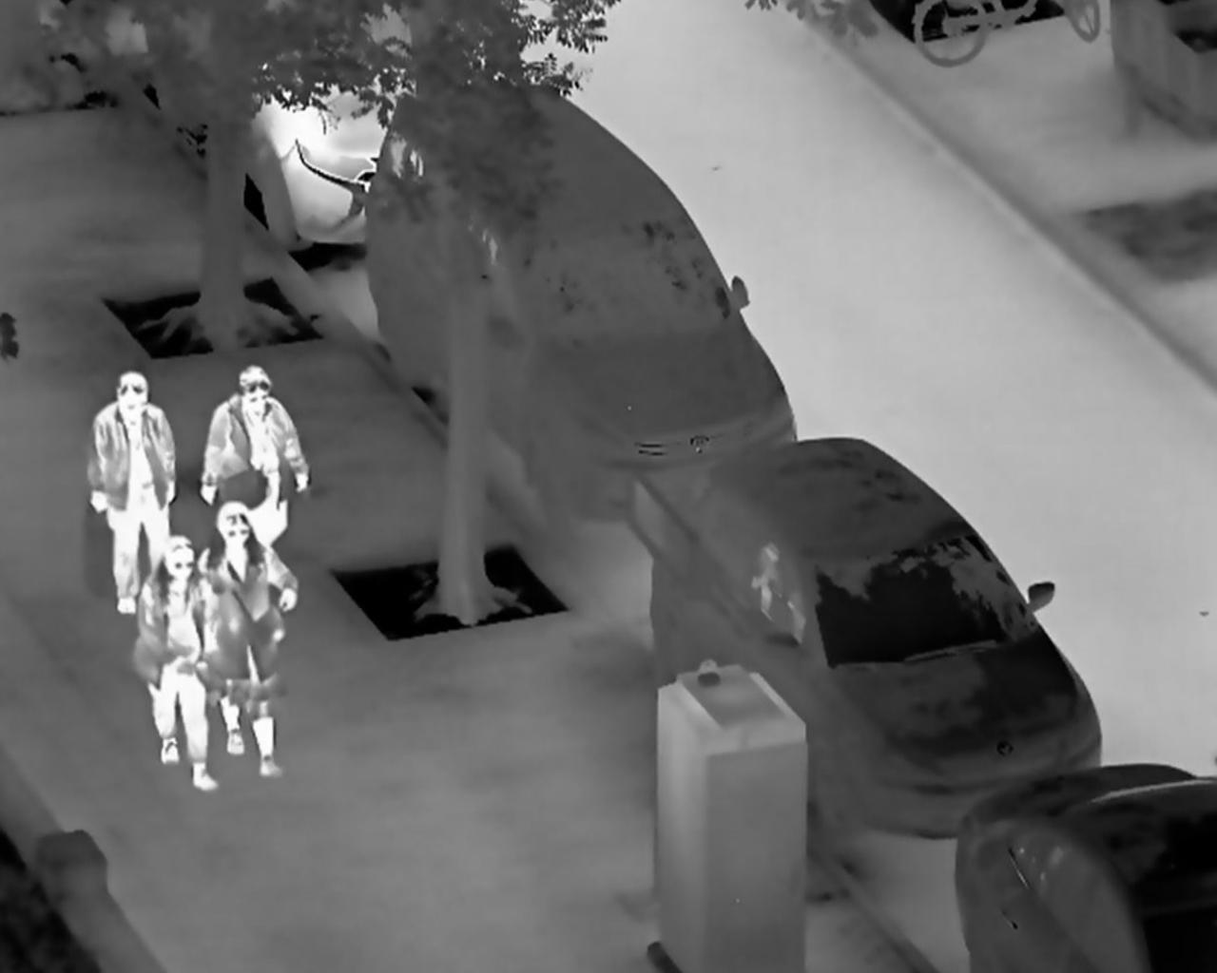person: (200, 500, 302, 777), (132, 532, 221, 790), (86, 368, 175, 614), (200, 362, 313, 550)
